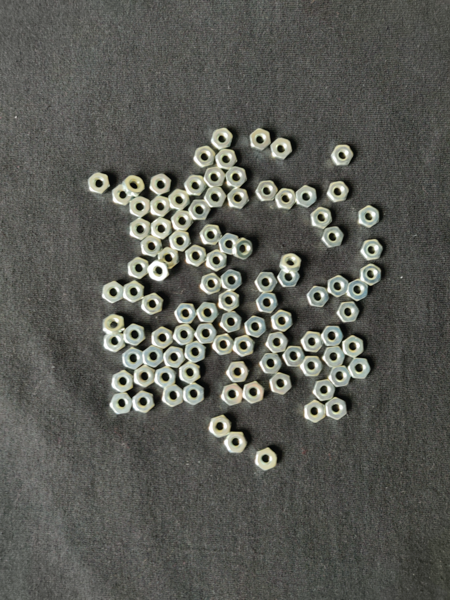nut: (255, 447, 278, 472), (304, 400, 327, 424), (209, 415, 232, 439), (132, 391, 156, 414), (233, 335, 257, 358), (255, 180, 279, 203), (270, 373, 293, 396), (243, 382, 266, 405), (271, 310, 294, 333), (141, 293, 164, 316), (140, 235, 163, 258), (162, 384, 184, 408), (322, 346, 346, 368), (265, 332, 289, 354), (149, 174, 173, 196), (326, 398, 348, 421), (110, 393, 133, 415), (183, 383, 205, 406), (328, 366, 351, 388), (348, 358, 371, 380), (154, 367, 177, 389), (134, 365, 156, 388), (112, 370, 134, 393), (212, 334, 235, 356), (142, 345, 164, 368), (173, 324, 196, 346), (152, 327, 174, 350), (123, 324, 146, 346), (256, 292, 279, 314), (307, 286, 330, 308), (347, 279, 369, 302), (360, 239, 383, 261), (123, 281, 145, 304), (148, 260, 171, 282), (127, 257, 149, 280), (158, 247, 180, 270), (169, 230, 192, 252), (311, 207, 333, 230), (358, 206, 380, 229), (271, 138, 293, 161), (227, 187, 250, 209), (129, 218, 151, 241), (151, 217, 173, 240), (193, 146, 216, 168), (211, 127, 233, 150), (226, 362, 250, 383), (174, 303, 198, 324), (336, 302, 360, 323), (321, 227, 345, 248), (313, 380, 335, 402), (164, 347, 186, 369), (245, 316, 267, 338), (197, 302, 219, 324), (360, 264, 382, 286), (218, 290, 240, 312), (221, 270, 243, 292), (200, 273, 222, 295), (206, 250, 228, 272), (327, 181, 349, 203), (275, 189, 297, 211), (129, 196, 151, 218), (112, 184, 134, 206), (224, 433, 247, 454), (180, 362, 201, 385), (260, 353, 283, 374), (283, 346, 306, 367), (343, 335, 364, 358), (301, 332, 324, 353), (321, 326, 344, 347), (122, 347, 143, 370), (220, 312, 243, 333), (255, 272, 278, 293), (328, 275, 349, 298), (186, 245, 207, 268), (200, 225, 223, 246), (331, 145, 354, 166), (296, 185, 317, 208), (250, 128, 271, 151), (204, 187, 227, 208), (122, 176, 145, 197), (150, 195, 171, 218), (184, 175, 207, 196), (204, 167, 227, 188), (215, 149, 238, 170), (222, 384, 243, 406), (185, 341, 206, 363), (103, 314, 125, 335), (102, 282, 123, 304), (88, 173, 110, 194), (168, 189, 190, 210), (300, 357, 323, 377), (195, 324, 218, 344), (233, 238, 253, 261), (171, 211, 194, 231), (226, 167, 247, 188), (280, 254, 302, 274), (219, 233, 239, 255), (189, 200, 211, 220), (104, 334, 126, 353), (278, 271, 301, 287)
